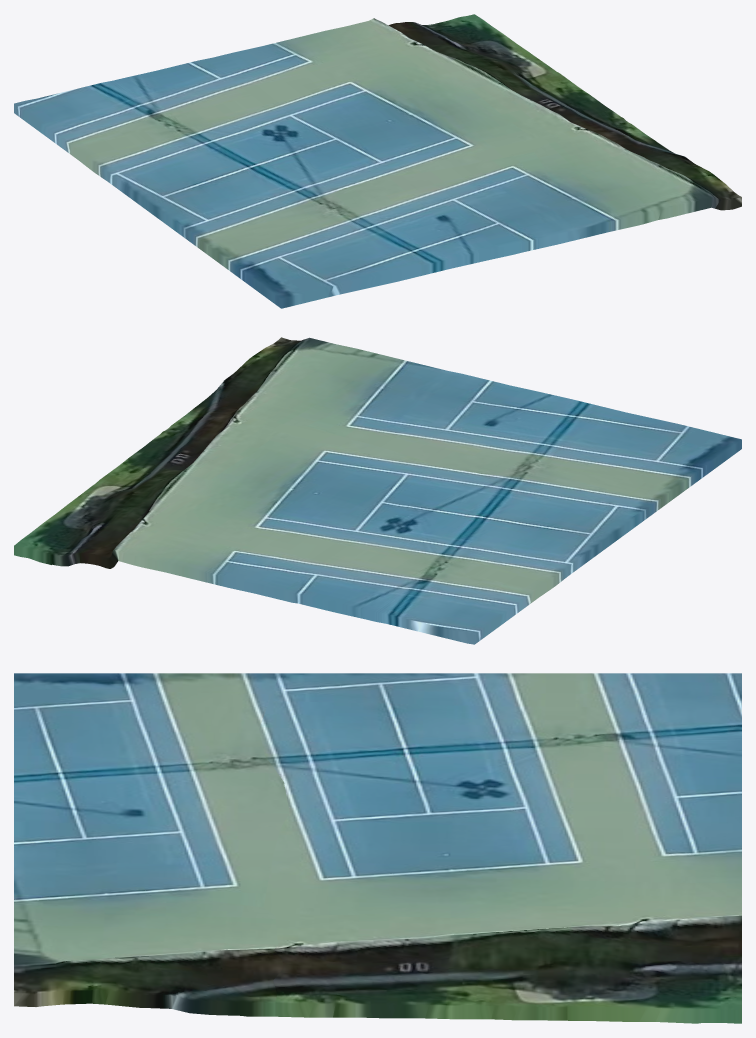
Rendered from z20-167736-405195-h0-yup-uvflip-v3-world.glb.
3 views of the same model, one above another, from view 1: azimuth 30°, elevation 25°; view 2: azimuth 150°, elevation 25°; view 3: azimuth 270°, elevation 25° (orthographic). The views are drawn at different scales.
Size of the model in its own units: 30.16 by 2.08 by 30.32.
1 material, 1 textured.
